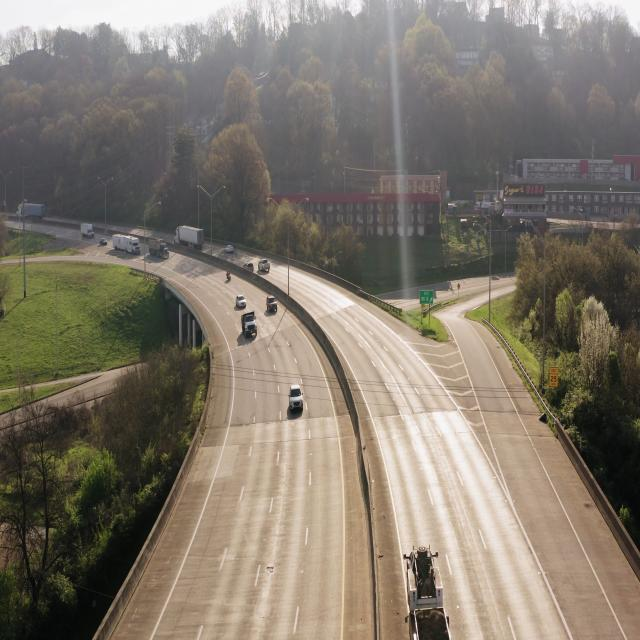Car: (397, 538, 457, 640), (286, 380, 304, 419), (240, 310, 259, 345), (265, 294, 279, 316), (236, 292, 248, 310)
